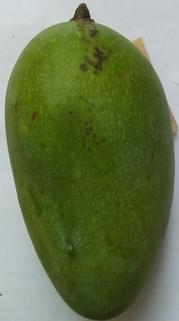Unripe: (1, 1, 179, 321)
